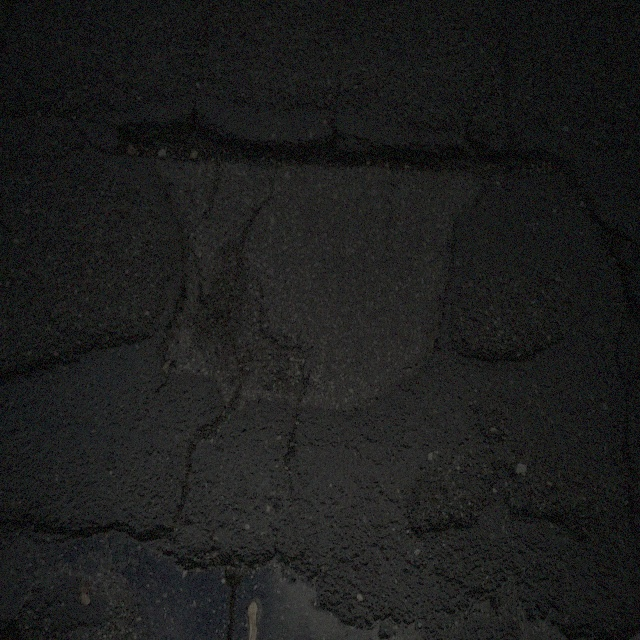pothole: (110, 106, 502, 427)
